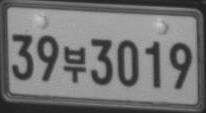0: (116, 39, 139, 87)
1: (143, 40, 165, 87)
3: (11, 33, 34, 80), (90, 38, 113, 84)
9: (36, 34, 59, 82), (169, 41, 192, 89)
부: (62, 45, 87, 83)
